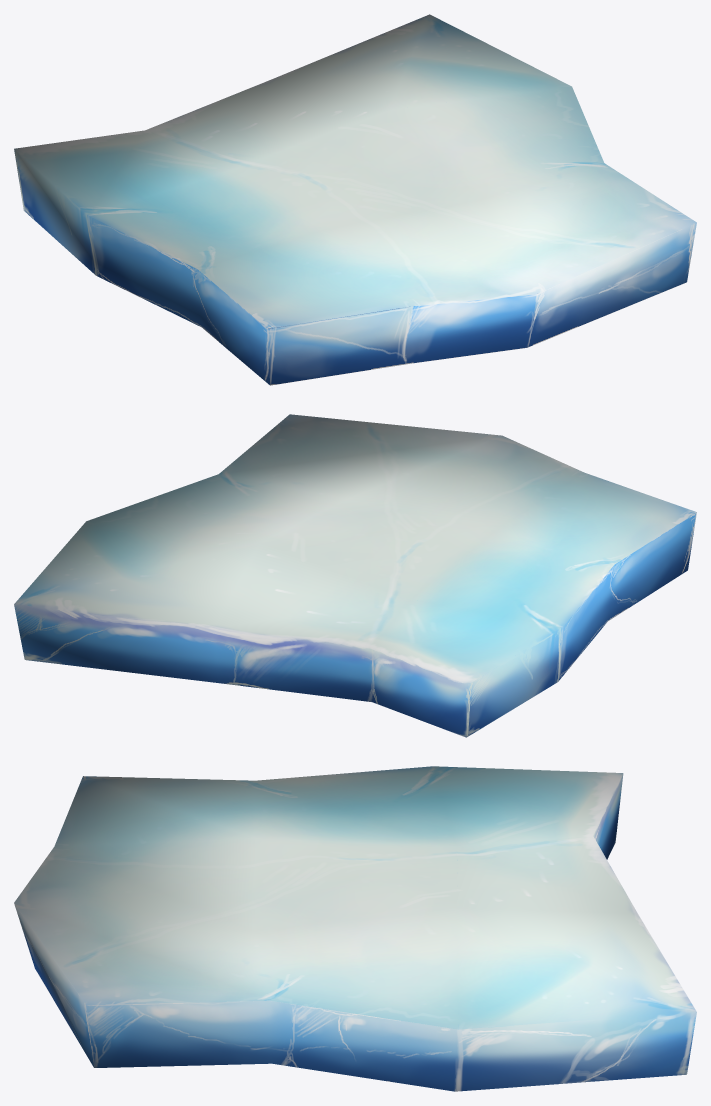
Rendered from IceShardsBig.fbx.
The picture shows the model from 3 angles, top to bottom: view 1: azimuth 30°, elevation 25°; view 2: azimuth 150°, elevation 25°; view 3: azimuth 270°, elevation 25°; orthographic projection. The views are drawn at different scales.
Parts seen in each view (by area): view 1: big ice shard; view 2: big ice shard; view 3: big ice shard.
Boxes of the visible parts, x1,y1,x2,y2 form: big ice shard: (14,14,696,385); big ice shard: (14,414,696,737); big ice shard: (14,766,696,1091).
Size of the model in its own units: 175 by 27.81 by 192.
